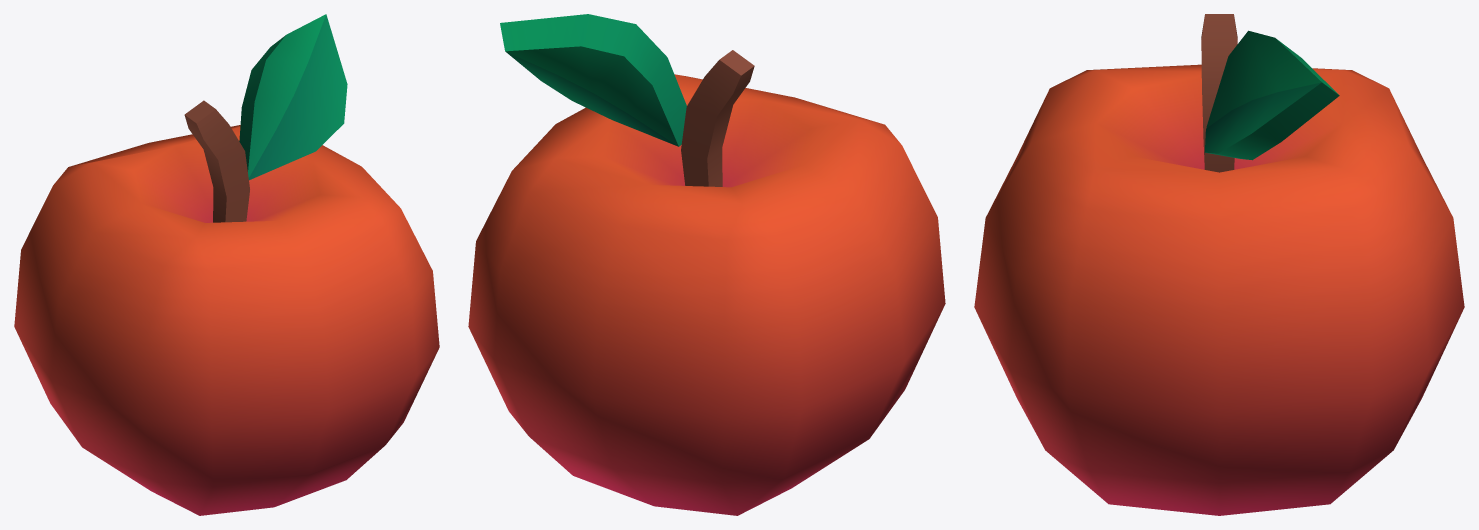
File: apple.glb
3 renders of one model, left to right at view 1: azimuth 30°, elevation 25°; view 2: azimuth 150°, elevation 25°; view 3: azimuth 270°, elevation 25°, orthographic. The views are drawn at different scales.
Visible parts, largest first — view 1: Food_Apple_Red; view 2: Food_Apple_Red; view 3: Food_Apple_Red.
Boxes of the visible parts, left/top/right/bottom form: Food_Apple_Red: left=14, top=14, right=439, bottom=515; Food_Apple_Red: left=468, top=14, right=945, bottom=515; Food_Apple_Red: left=974, top=14, right=1464, bottom=515.
Size of the model in its own units: 0.45 by 0.5 by 0.45.
1 material, 1 textured.
